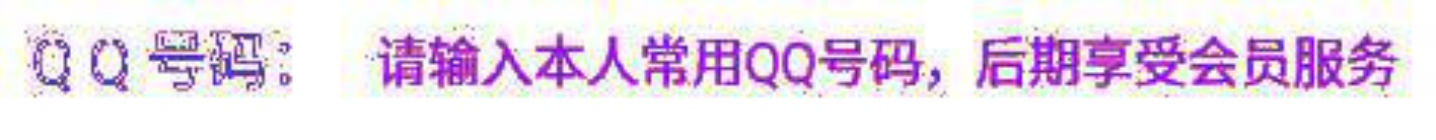EditText: (1, 1, 1435, 139)
